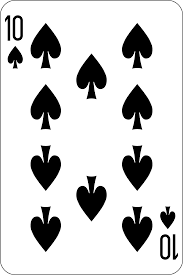ten of spades: (1, 4, 181, 269)
